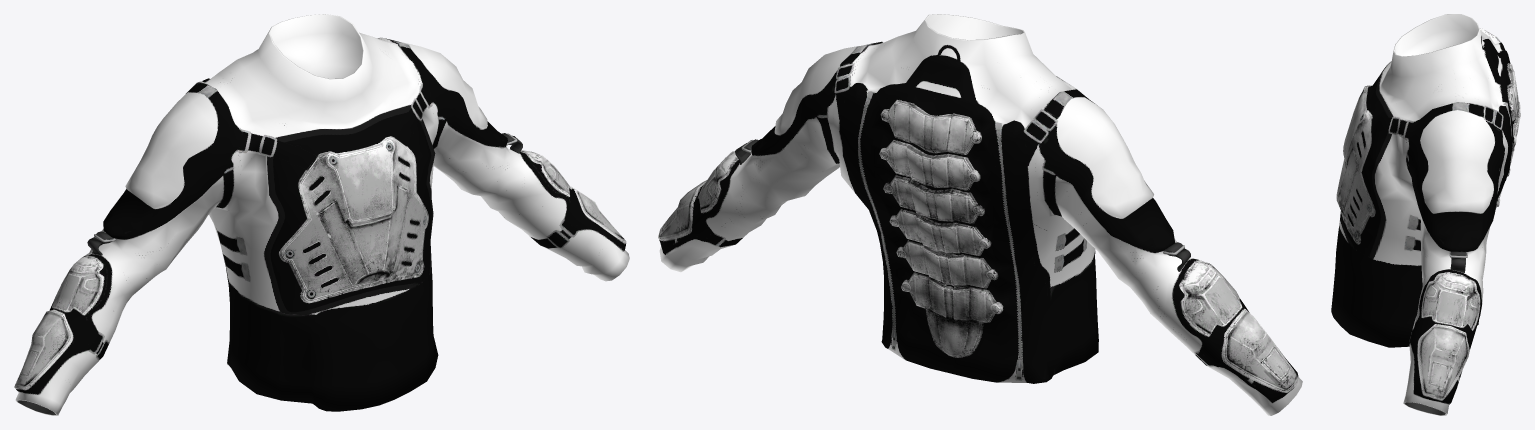
The model's file is SurvivorMale_Chest_Jacket_MotoArmor_LOD0.glb.
3 views of the same model, side by side, from view 1: azimuth 30°, elevation 25°; view 2: azimuth 150°, elevation 25°; view 3: azimuth 270°, elevation 25° (orthographic). The views are drawn at different scales.
Visible parts, largest first — view 1: Hoodie; view 2: Hoodie; view 3: Hoodie.
Boxes of the visible parts, x1,y1,x2,y2 form: Hoodie: [14, 14, 629, 415]; Hoodie: [658, 14, 1302, 415]; Hoodie: [1331, 14, 1520, 415].
Bounding box in the file's own units: 1.14 × 0.583 × 0.3538.
1 material, 1 textured.
